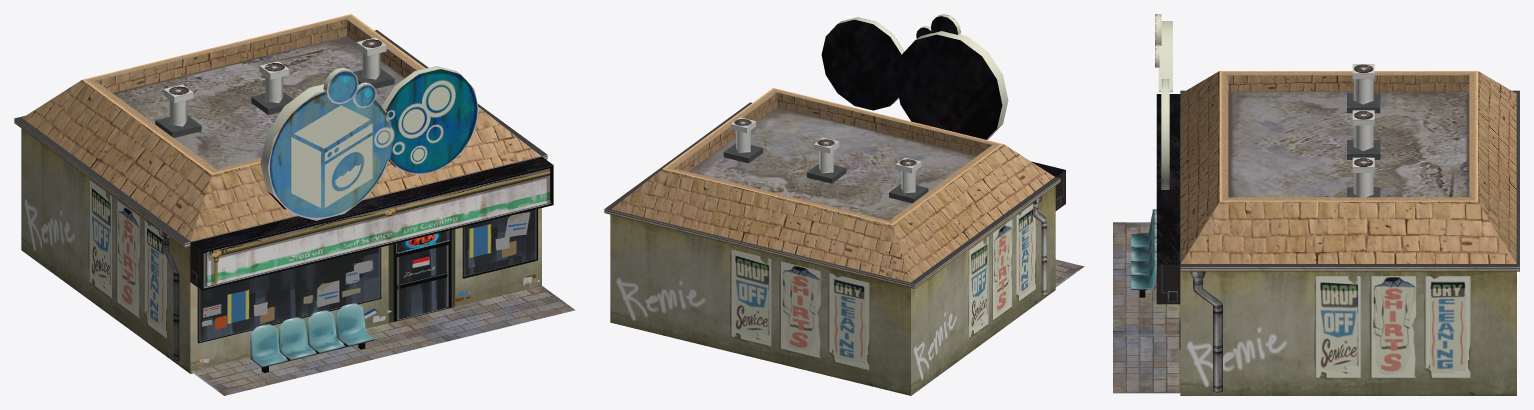
The picture shows the model from 3 angles, left to right: view 1: azimuth 30°, elevation 25°; view 2: azimuth 150°, elevation 25°; view 3: azimuth 270°, elevation 25°; orthographic projection. The views are drawn at different scales.
Visible parts, largest first — view 1: LM_Laundrette_pasted__pCube65_Laundrymat_0; view 2: LM_Laundrette_pasted__pCube65_Laundrymat_0; view 3: LM_Laundrette_pasted__pCube65_Laundrymat_0.
Part boxes in pixels (<box>): LM_Laundrette_pasted__pCube65_Laundrymat_0: <box>14,14,575,395</box>; LM_Laundrette_pasted__pCube65_Laundrymat_0: <box>604,14,1084,395</box>; LM_Laundrette_pasted__pCube65_Laundrymat_0: <box>1113,14,1519,395</box>.
Size of the model in its own units: 61.96 by 45.43 by 60.41.
Materials: 1 (1 with a texture image).
